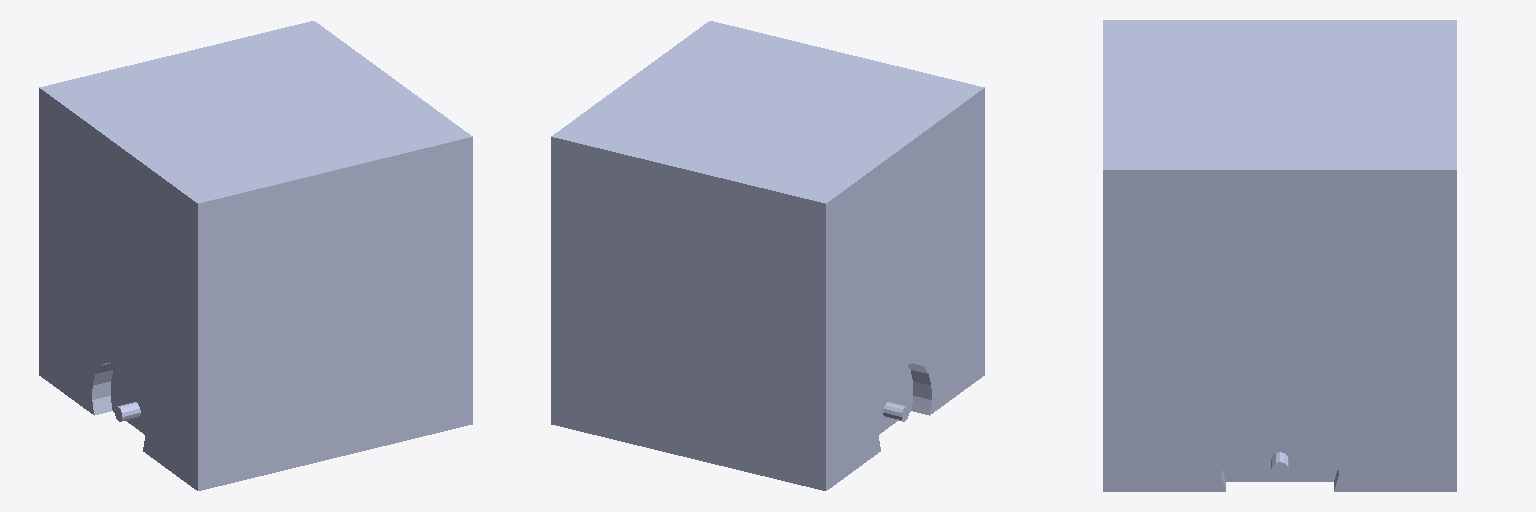
The robot description file, URDF, robot "torbag":
<?xml version="1.0" encoding="utf-8"?>
<!-- This URDF was automatically created by SolidWorks to URDF Exporter! Originally created by Stephen Brawner (brawner@gmail.com) 
     Commit Version: 1.6.0-4-g7f85cfe  Build Version: 1.6.7995.38578
     For more information, please see http://wiki.ros.org/sw_urdf_exporter -->
<robot
  name="torbag">
  <link
    name="base_link">
    <inertial>
      <origin
        xyz="0.00145609729701103 0.121075324101307 -0.00597938008483946"
        rpy="0 0 0" />
      <mass
        value="5.91672287940702" />
      <inertia
        ixx="0.0173065242471076"
        ixy="1.87176751488714E-07"
        ixz="-5.16575833277616E-05"
        iyy="0.0231981709013783"
        iyz="0.00039690974297161"
        izz="0.0149830690086891" />
    </inertial>
    <visual>
      <origin
        xyz="0 0 0"
        rpy="0 0 1.5708" />
      <geometry>
        <mesh
          filename="package://torbag/meshes/base_link.STL" />
      </geometry>
      <material
        name="">
        <color
          rgba="0.792156862745098 0.819607843137255 0.933333333333333 1" />
      </material>
    </visual>
    <collision>
      <origin
        xyz="0 0 0"
        rpy="0 0 1.5708" />
      <geometry>
        <mesh
          filename="package://torbag/meshes/base_link.STL" />
      </geometry>
    </collision>
  </link>
</robot>

--- What the picture shows (computed from the rendered views, not written in the file) ---
3 views of the same robot in one strip: view 1: azimuth 30°, elevation 25°; view 2: azimuth 150°, elevation 25°; view 3: azimuth 270°, elevation 25° (orthographic).
Model torbag with 1 links and 0 joints (none), rooted at base_link, posed every joint at zero.
Visible links, largest first — view 1: base_link; view 2: base_link; view 3: base_link.
Boxes of the visible links, x1,y1,x2,y2 form: base_link: (39,21,472,490); base_link: (551,21,984,490); base_link: (1103,20,1456,491).
Bounding box of the posed robot: 0.3 × 0.3 × 0.3 m (x, y, z).
Meshes: 1 distinct files referenced, 1 mesh visuals loaded (1 binary STL).
